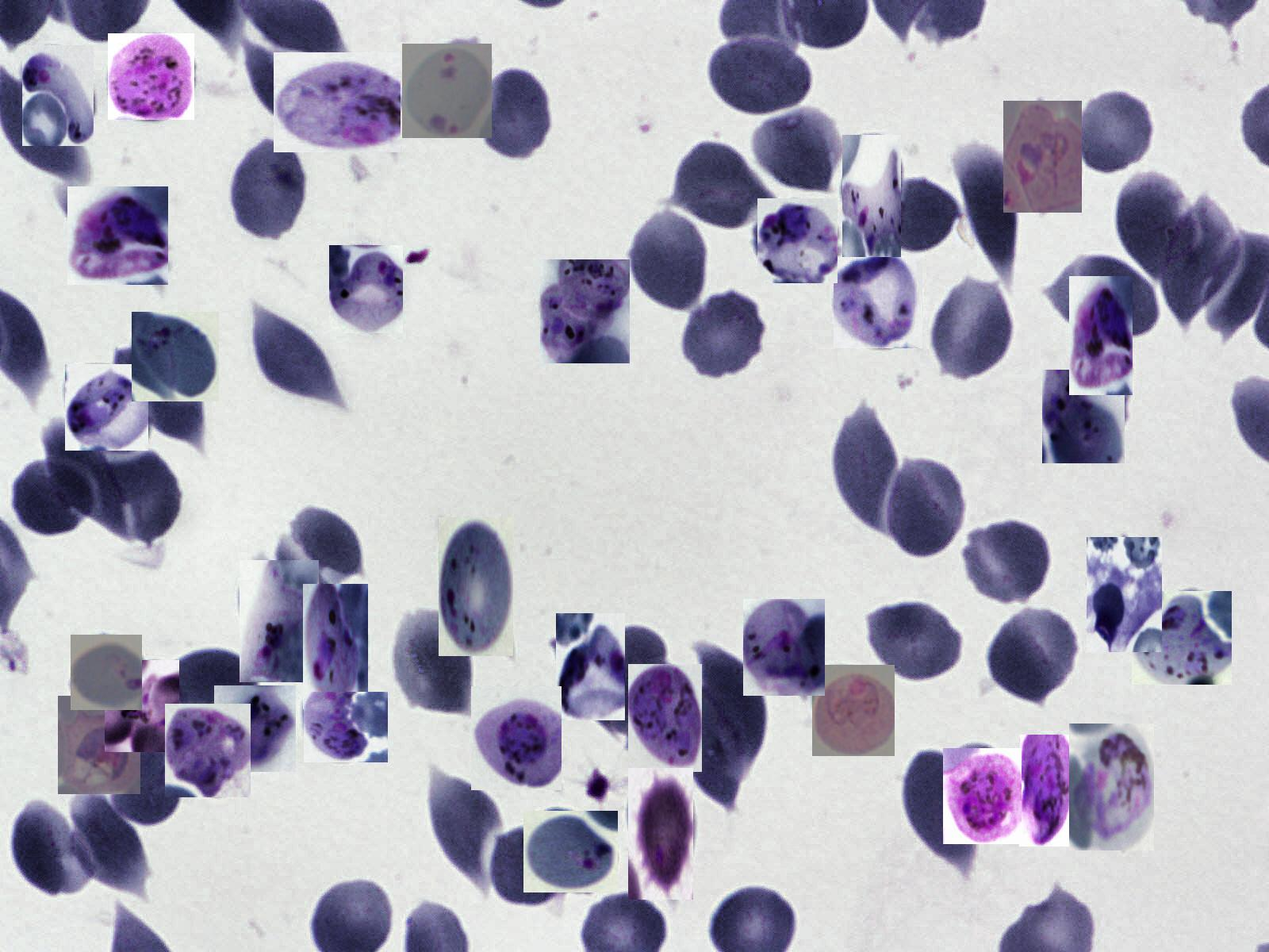Infected: (274, 52, 401, 152), (1069, 724, 1154, 850), (439, 517, 513, 656), (67, 186, 168, 285), (240, 560, 319, 682), (471, 686, 562, 790), (540, 259, 630, 363), (1132, 592, 1232, 685), (1003, 101, 1082, 213), (1087, 537, 1162, 652), (628, 768, 693, 900), (402, 44, 492, 138), (834, 255, 922, 348), (303, 584, 368, 709), (58, 696, 140, 794), (165, 704, 251, 797), (628, 664, 702, 772), (743, 599, 825, 696), (132, 312, 219, 401), (1042, 370, 1125, 463), (523, 811, 618, 892), (1069, 276, 1133, 395), (943, 748, 1022, 844), (812, 665, 895, 756), (108, 33, 194, 120), (556, 613, 625, 720), (22, 45, 94, 146), (65, 364, 148, 451), (1019, 735, 1084, 846), (842, 135, 901, 257), (214, 685, 296, 772), (757, 198, 838, 283), (105, 660, 179, 752), (329, 245, 403, 333), (304, 692, 388, 762), (71, 635, 142, 710)
Uninfected: (38, 419, 130, 532), (900, 745, 978, 876), (422, 772, 503, 896), (1159, 199, 1240, 323), (111, 346, 206, 447), (981, 608, 1075, 707), (392, 610, 478, 718), (625, 207, 712, 312), (957, 141, 1019, 288), (691, 642, 765, 765), (246, 305, 337, 405), (241, 39, 330, 141), (833, 409, 903, 538), (1051, 255, 1159, 338), (957, 517, 1054, 608), (230, 133, 309, 241), (1117, 174, 1196, 282), (679, 287, 769, 381), (669, 141, 766, 228), (849, 176, 959, 252), (884, 460, 965, 563), (934, 278, 1014, 382), (67, 790, 144, 898), (95, 450, 179, 546), (707, 36, 811, 113), (10, 797, 87, 901), (485, 823, 573, 910), (863, 602, 960, 680), (1072, 87, 1157, 176), (754, 110, 844, 192), (275, 505, 362, 587), (688, 684, 743, 812), (477, 67, 553, 159), (604, 628, 669, 735), (107, 736, 181, 827), (170, 648, 258, 724), (14, 461, 88, 536)
